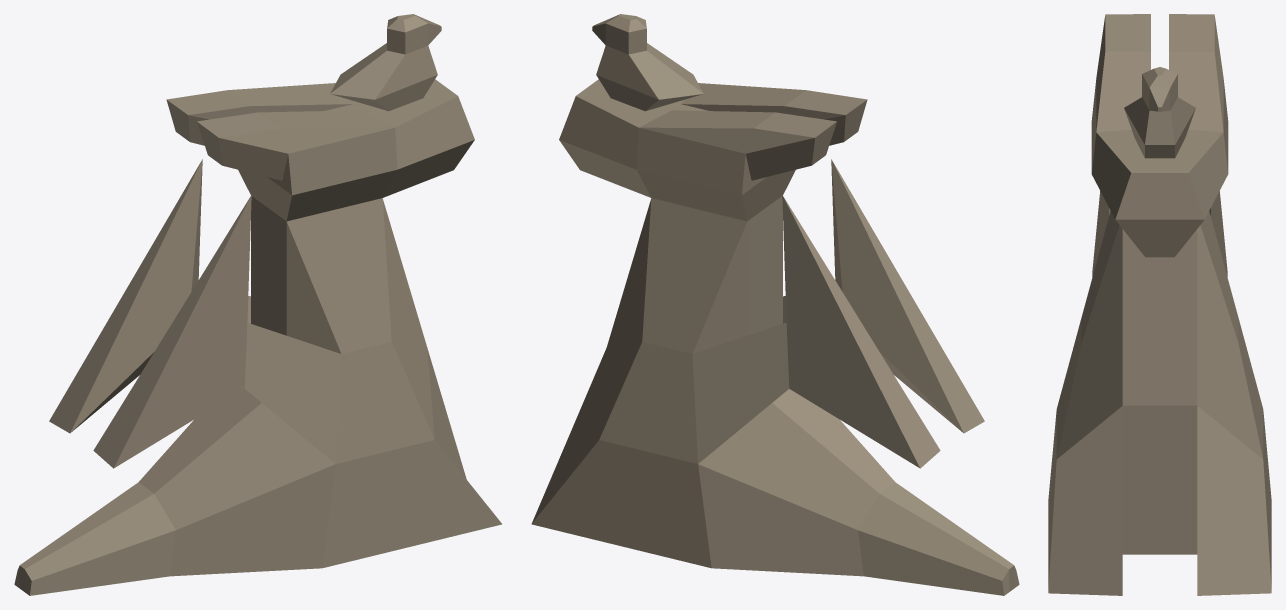
Rendered from Egg.fbx.
3 views of the same model, side by side, from view 1: azimuth 30°, elevation 25°; view 2: azimuth 150°, elevation 25°; view 3: azimuth 270°, elevation 25° (orthographic). The views are drawn at different scales.
Visible parts, largest first — view 1: Cube; view 2: Cube; view 3: Cube.
Part boxes in pixels (x1,y1,x2,y2): Cube: (14, 14, 501, 595); Cube: (531, 14, 1019, 595); Cube: (1048, 14, 1271, 595).
Bounding box in the file's own units: 200 × 466 × 495.
